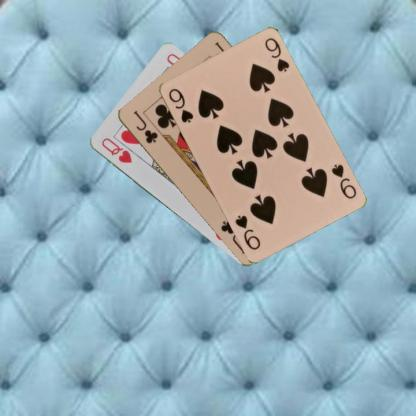9s: (328, 161, 358, 200), (165, 86, 195, 124)
Jc: (130, 108, 159, 145)
Qh: (98, 135, 134, 165)
